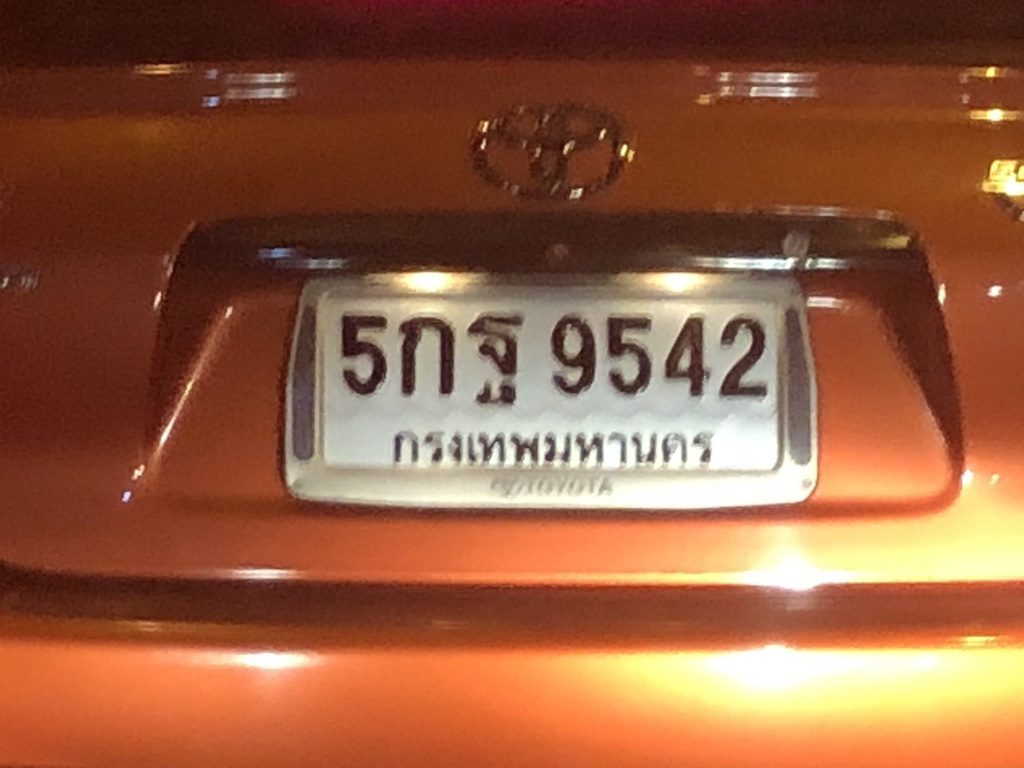plate: (255, 245, 835, 526)
